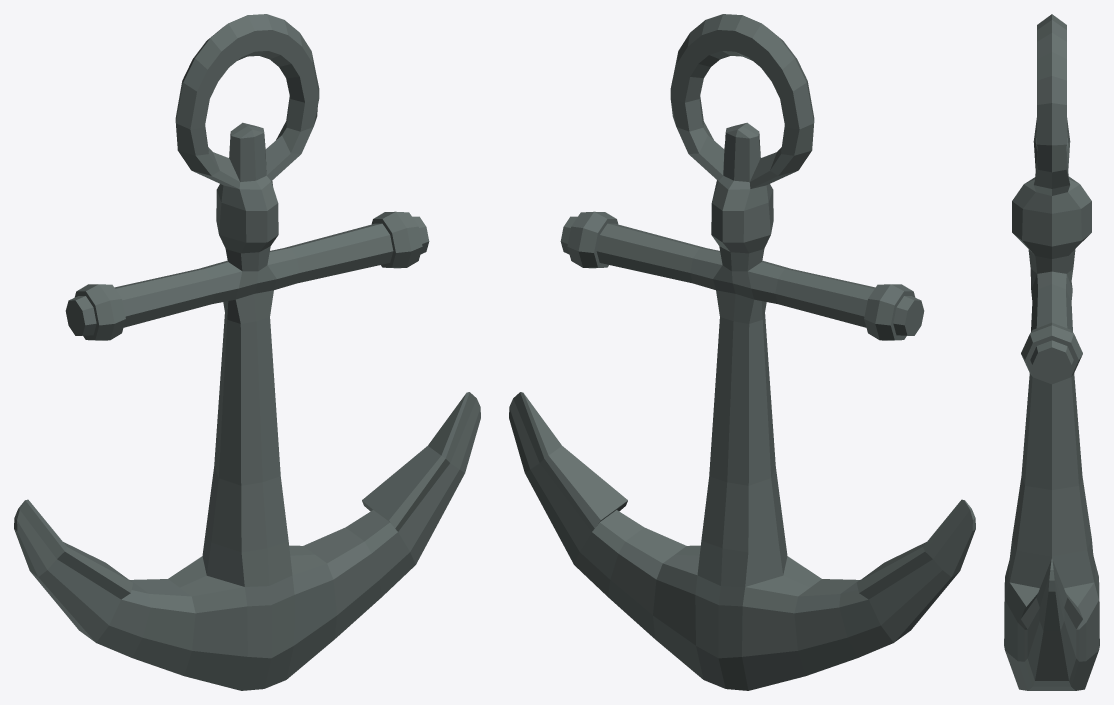
The model's file is anchor.glb.
The picture shows the model from 3 angles, left to right: view 1: azimuth 30°, elevation 25°; view 2: azimuth 150°, elevation 25°; view 3: azimuth 270°, elevation 25°; orthographic projection.
Visible parts, largest first — view 1: Anchor_0; view 2: Anchor_0; view 3: Anchor_0.
Part boxes in pixels (x1,y1,x2,y2): Anchor_0: (14, 14, 480, 690); Anchor_0: (509, 14, 975, 690); Anchor_0: (1004, 14, 1099, 690).
Bounding box in the file's own units: 0.1406 × 0.1917 × 0.0251.
Materials: 1 (1 with a texture image).
